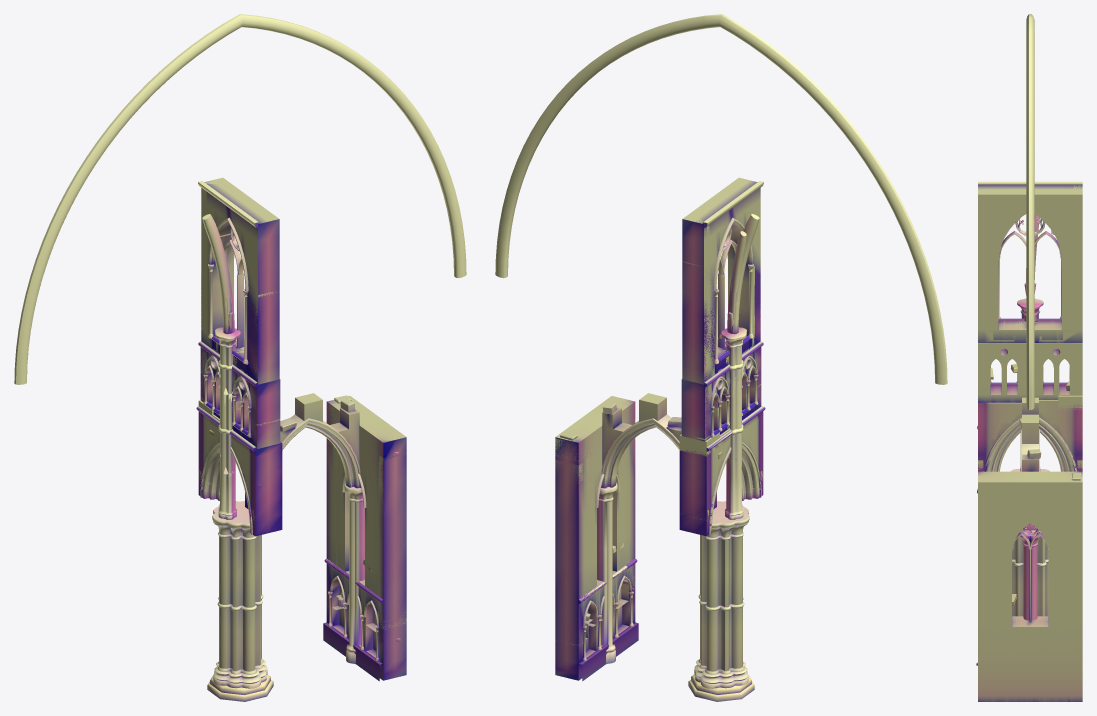
File: bay.glb
3 views of the same model, side by side, from view 1: azimuth 30°, elevation 25°; view 2: azimuth 150°, elevation 25°; view 3: azimuth 270°, elevation 25° (orthographic). The views are drawn at different scales.
Parts seen in each view (by area): view 1: aisle_full, clere_full, rib_full, pier, arcade_full, trif_full, aisle_arch, respond, aisle_gap, clere_down, vshaft_a, springer_a (+2 smaller); view 2: aisle_full, clere_full, rib_full, pier, arcade_full, trif_full, aisle_arch, respond, clere_down, vshaft_a, aisle_gap, aisle_down (+2 smaller); view 3: aisle_full, clere_full, trif_full, arcade_full, rib_full, aisle_gap, aisle_down, pier, clere_down, clere_jambs, aisle_arch, respond (+6 smaller).
Boxes of the visible parts, x1,y1,x2,y2 form: aisle_full: (323, 396, 406, 681); clere_full: (198, 177, 279, 384); rib_full: (14, 14, 466, 384); pier: (207, 501, 273, 701); arcade_full: (196, 406, 282, 536); trif_full: (198, 341, 280, 448); aisle_arch: (245, 393, 360, 508); respond: (344, 482, 364, 664); aisle_gap: (326, 439, 406, 678); clere_down: (201, 180, 244, 365); vshaft_a: (218, 424, 236, 519); springer_a: (202, 214, 234, 333); aisle_full: (555, 396, 638, 681); clere_full: (682, 177, 763, 384); rib_full: (495, 14, 947, 384); pier: (688, 501, 754, 701); arcade_full: (679, 406, 765, 536); trif_full: (681, 341, 763, 441); aisle_arch: (601, 393, 716, 508); respond: (597, 482, 617, 664); clere_down: (684, 216, 725, 381); vshaft_a: (725, 424, 743, 519); aisle_gap: (555, 420, 635, 656); aisle_down: (555, 432, 634, 652); aisle_full: (978, 471, 1082, 701); clere_full: (978, 181, 1082, 342); trif_full: (978, 343, 1082, 402); arcade_full: (978, 402, 1082, 471); rib_full: (1026, 14, 1034, 409); aisle_gap: (977, 489, 1082, 701); aisle_down: (976, 472, 1082, 701); pier: (1010, 468, 1049, 616); clere_down: (1003, 185, 1082, 342); clere_jambs: (978, 234, 1082, 342); aisle_arch: (1019, 397, 1041, 471); respond: (1019, 530, 1040, 620).
Size of the model in its own units: 24.98 by 35.67 by 5.52.
